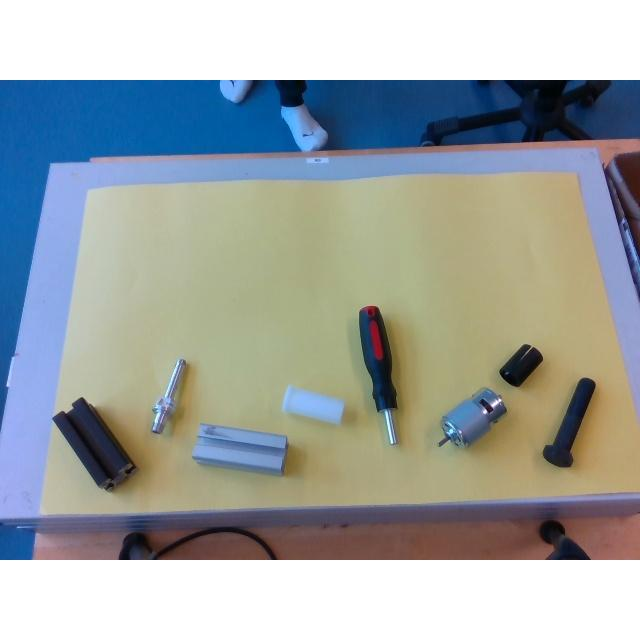M20_100: (542, 378, 594, 467)
Motor2: (438, 388, 507, 448)
S40_40_B: (52, 398, 136, 490)
S40_40_G: (194, 423, 286, 475)
Spacer: (282, 384, 344, 424)
